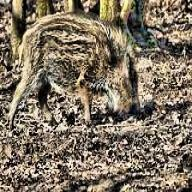boar: (11, 5, 161, 146)
